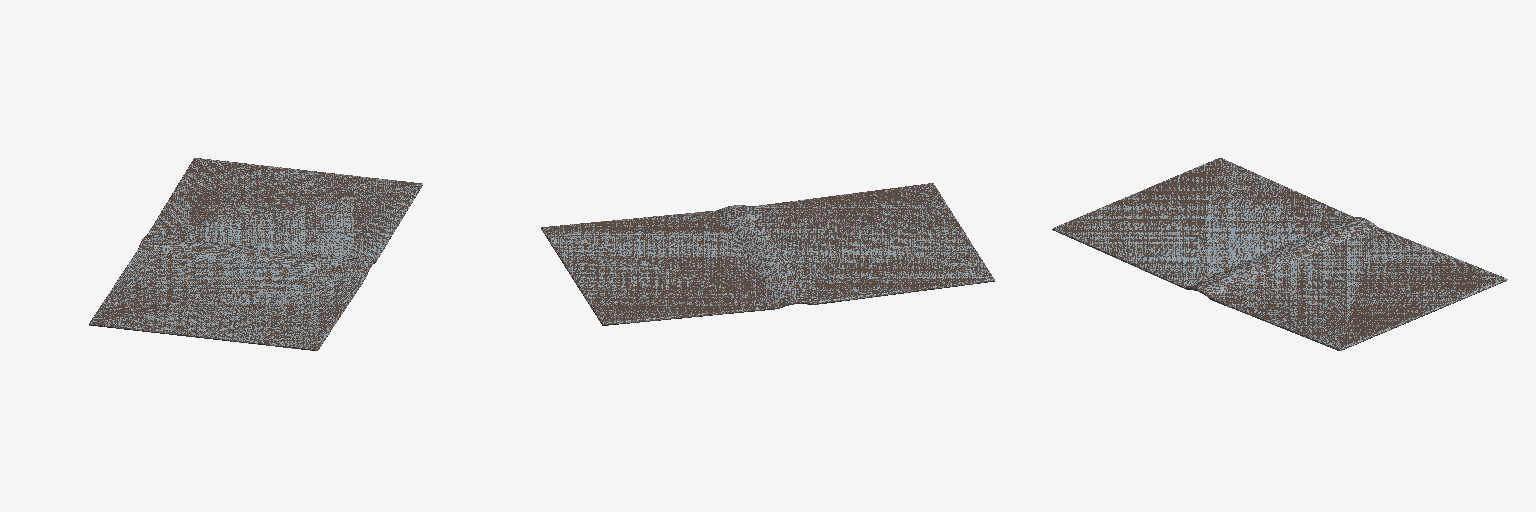
The model's file is bookbottom.obj.
The picture shows the model from 3 angles: view 1: azimuth 30°, elevation 25°; view 2: azimuth 150°, elevation 25°; view 3: azimuth 270°, elevation 25°; orthographic projection.
Parts seen in each view (by area): view 1: SketchUp_ID3; view 2: SketchUp_ID3; view 3: SketchUp_ID3.
Part boxes in pixels (bbox=[...]): SketchUp_ID3: bbox=[89, 158, 422, 350]; SketchUp_ID3: bbox=[541, 183, 994, 325]; SketchUp_ID3: bbox=[1052, 158, 1507, 350].
Size of the model in its own units: 0.1309 by 0.0019 by 0.1309.